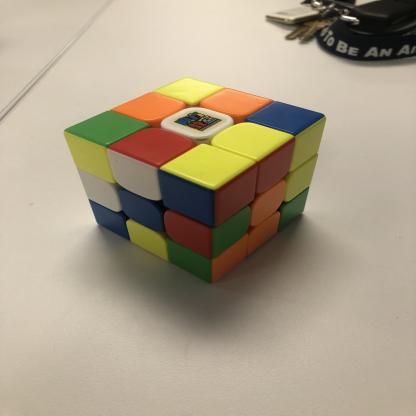UnsolvedCube: (61, 70, 343, 284)
